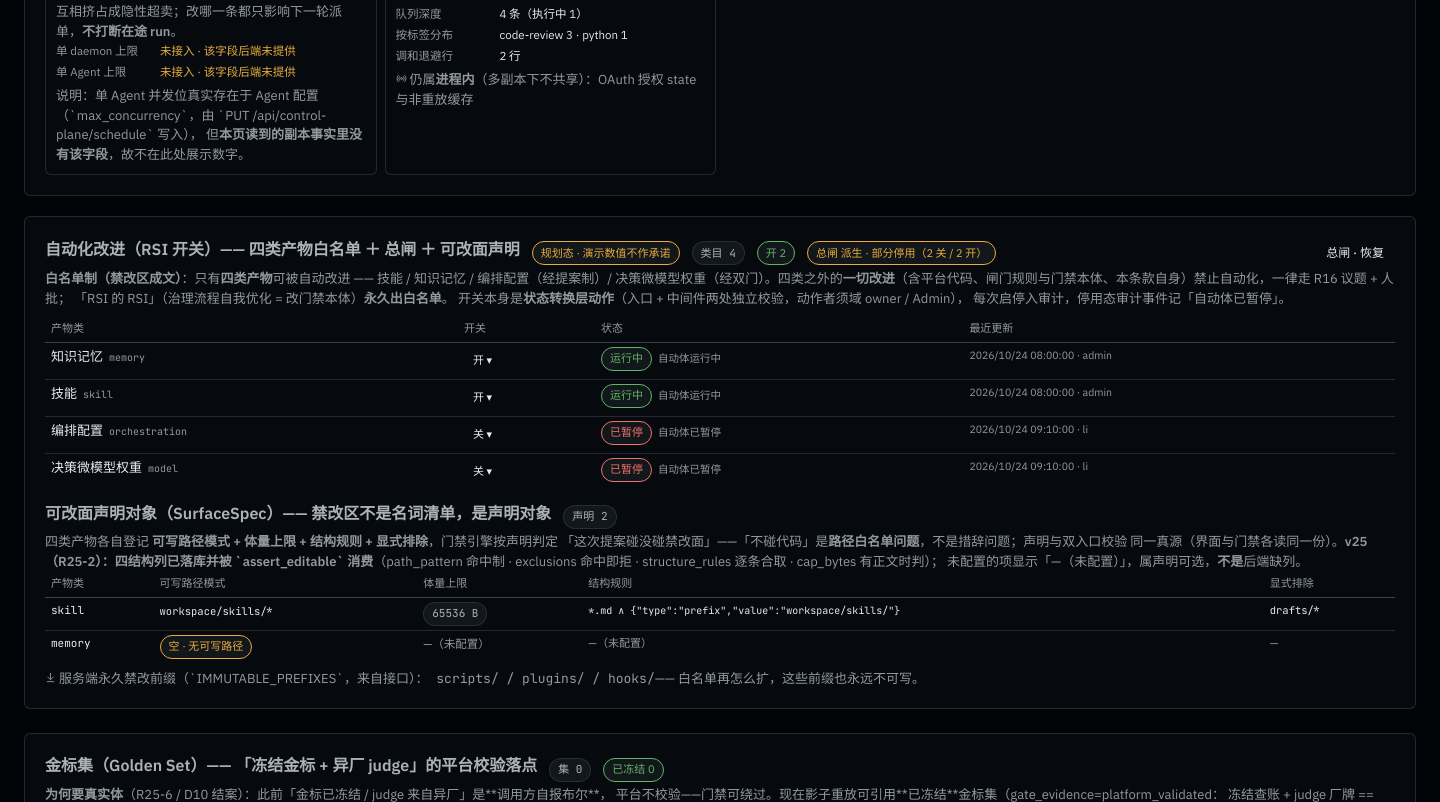
Test: ① RSI 开关卡组 › 停用类目：先二次确认，确认后 POST /api/rsi/switches/{category} 并落提示
(page scrolled)
Step 1. Click the button named "停用「技能」自动改进" → (483, 398), box [464,384,501,412]
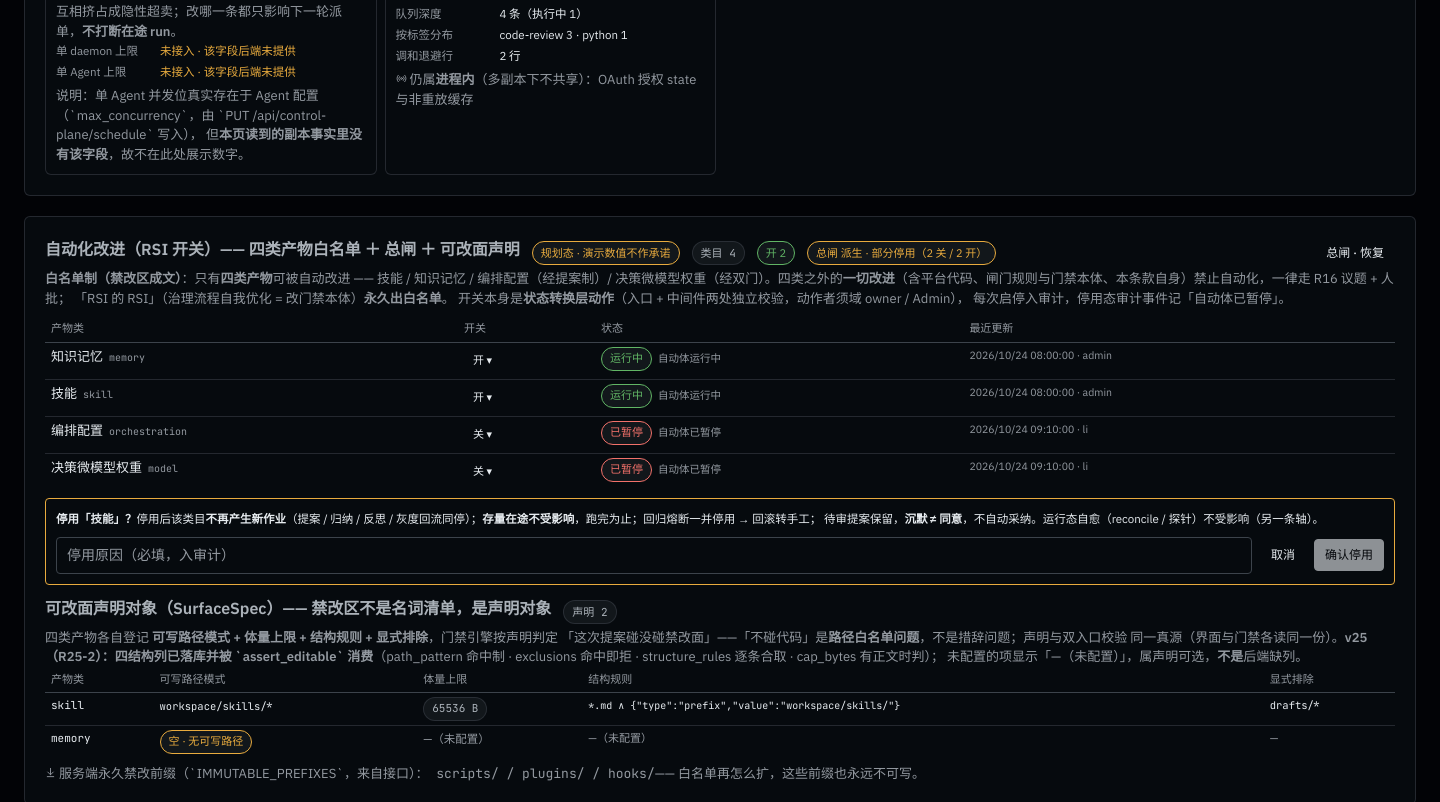
Now the button "确认停用" is disabled, box [1314,539,1384,571]
Step 2. Type "评测回流疑似污染" into the field named "停用原因（必填）" → (654, 555), box [56,536,1252,574]
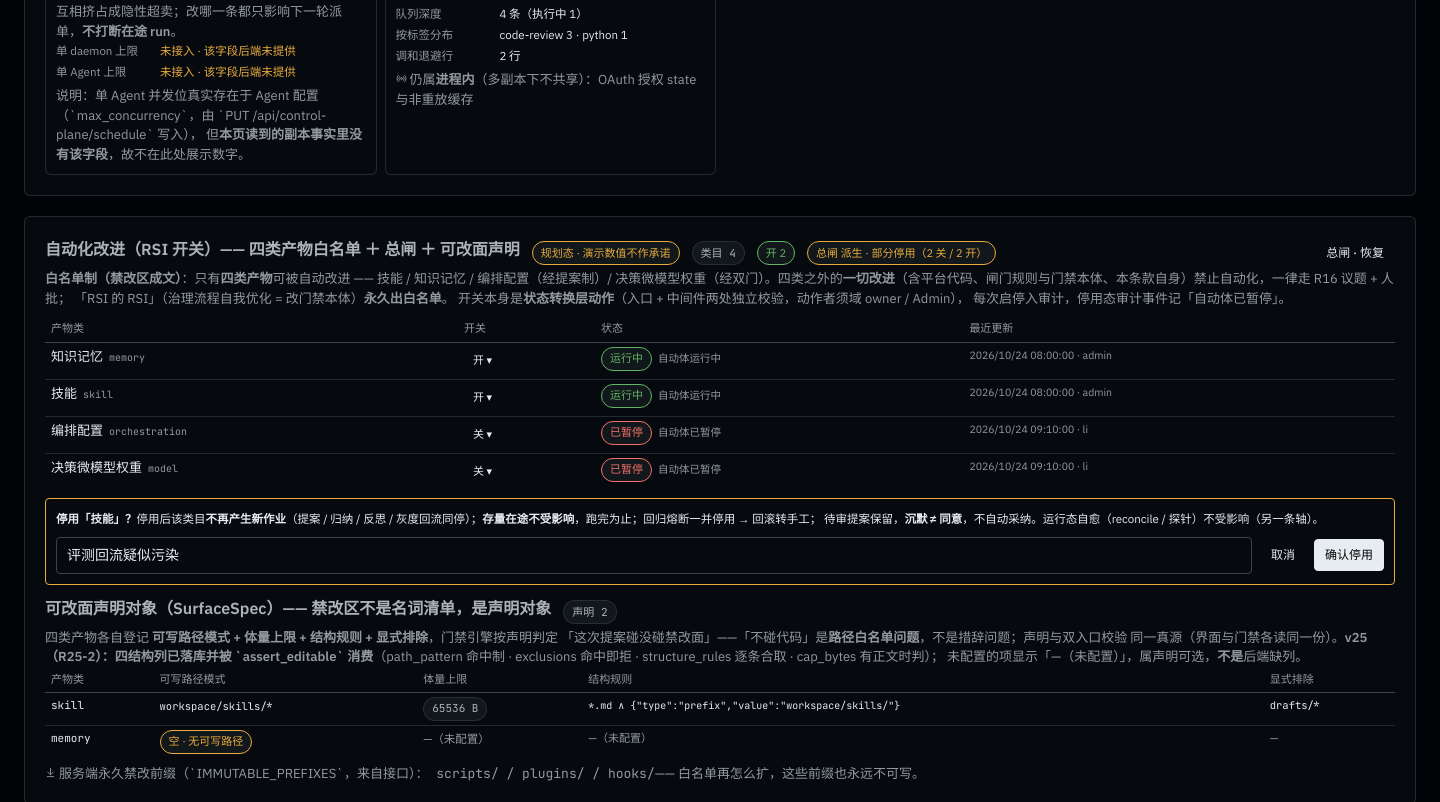
Step 3. Click the button "确认停用" → (1349, 555), box [1314,539,1384,571]
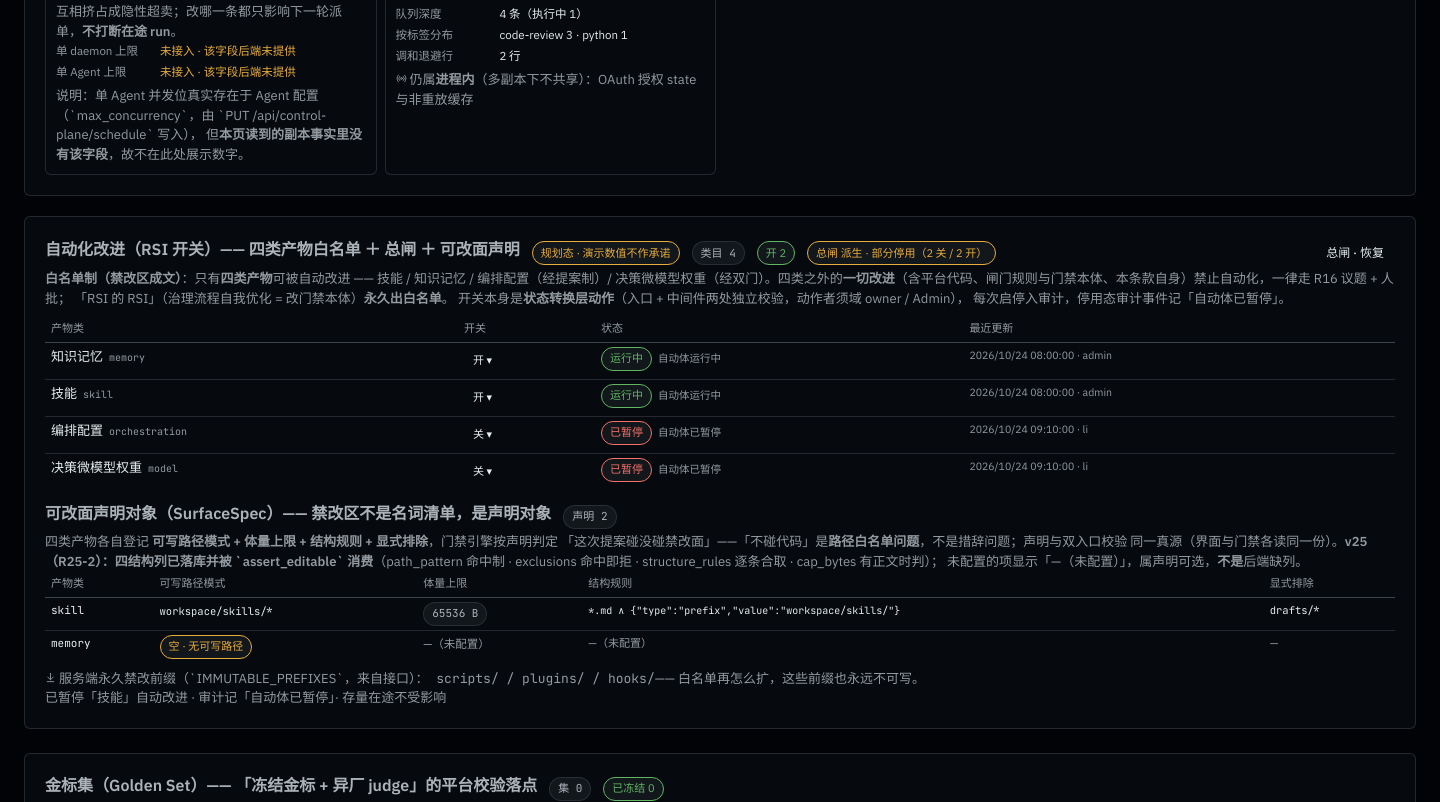
Now the message shows "已暂停「技能」自动改进", box [45,690,446,706]
